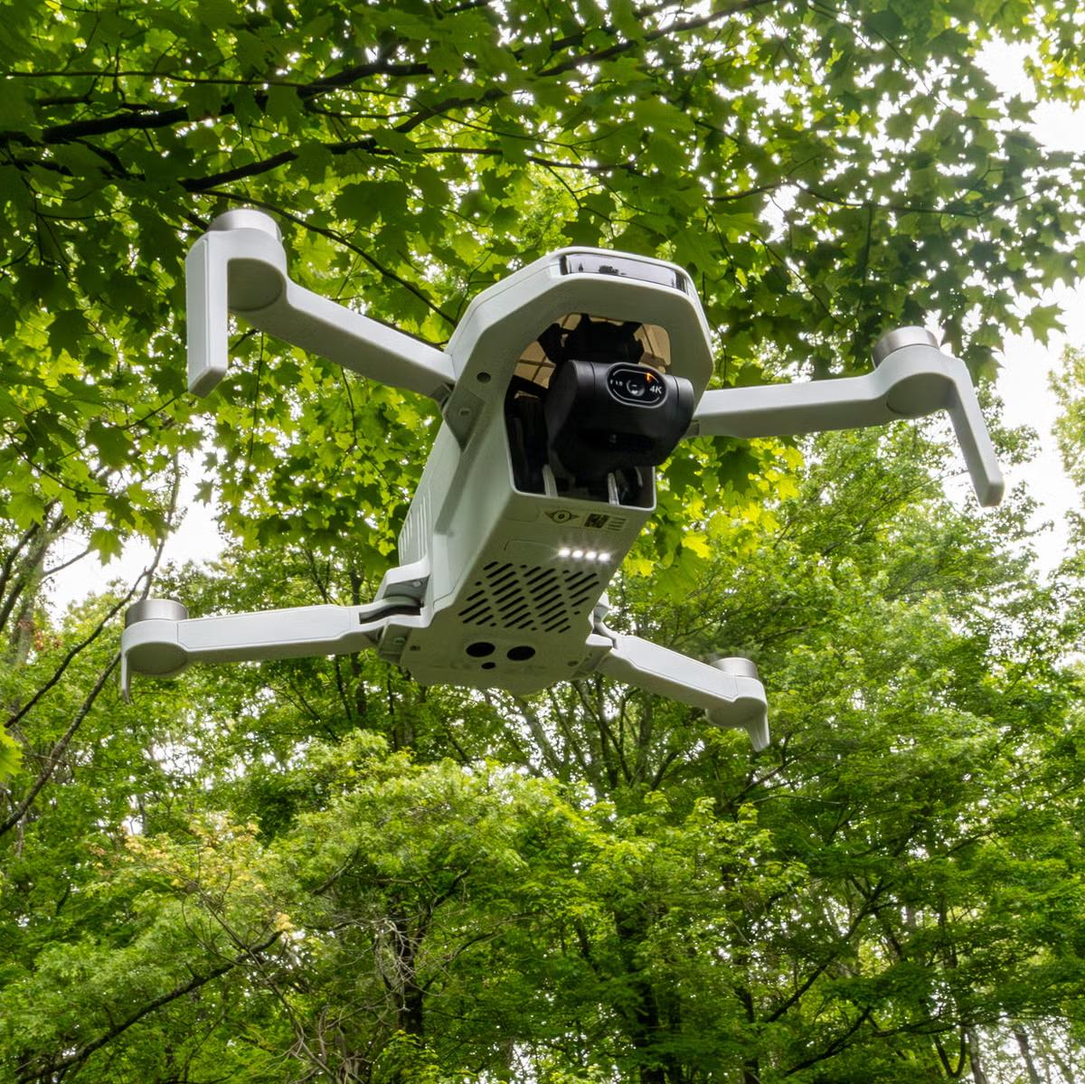Drone: (118, 208, 1004, 752)
